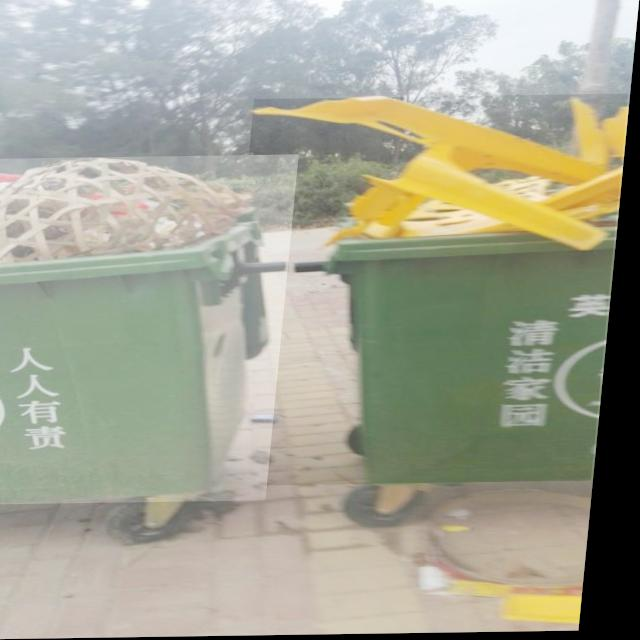overflow: (227, 95, 630, 487), (0, 156, 302, 505)
